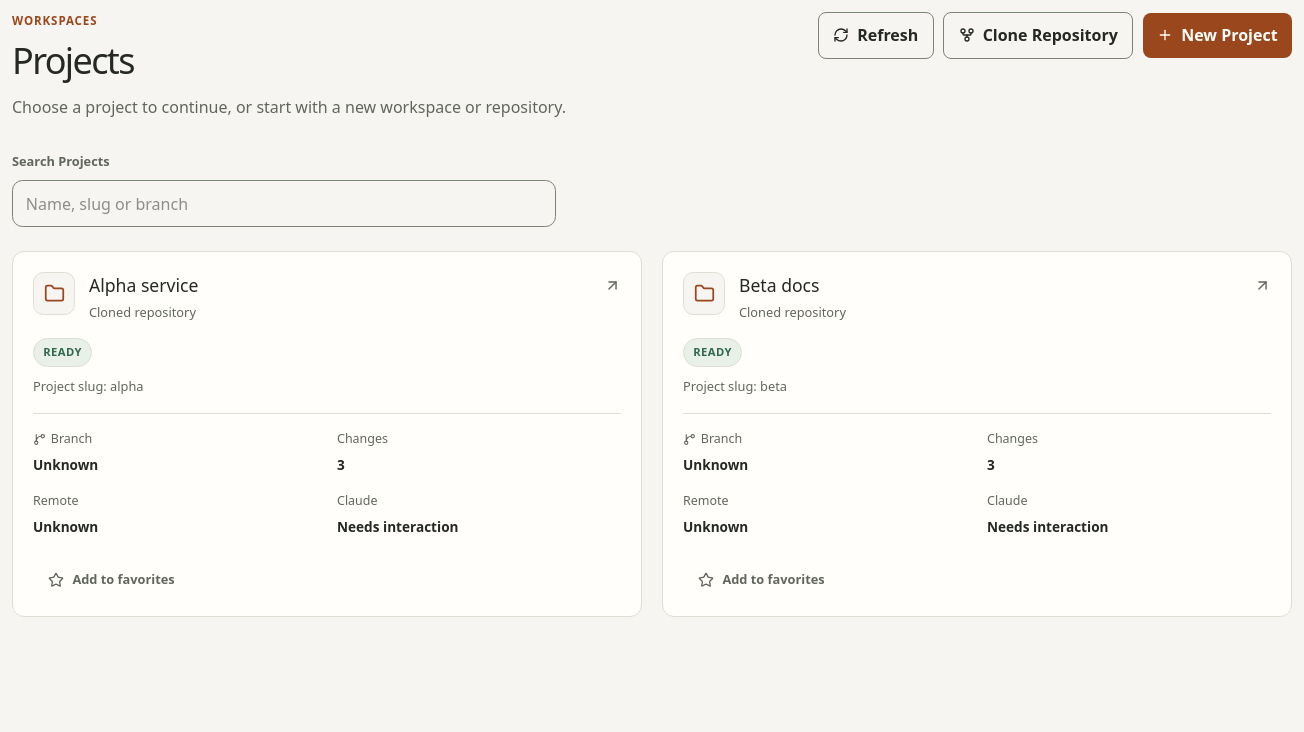
Scenario: ProjectsPage localized safety boundary › filters only loaded Project metadata and distinguishes no matches from no Projects
Type "beta" into the search field labelled "Search Projects" at (284, 204), box [12, 180, 556, 227]
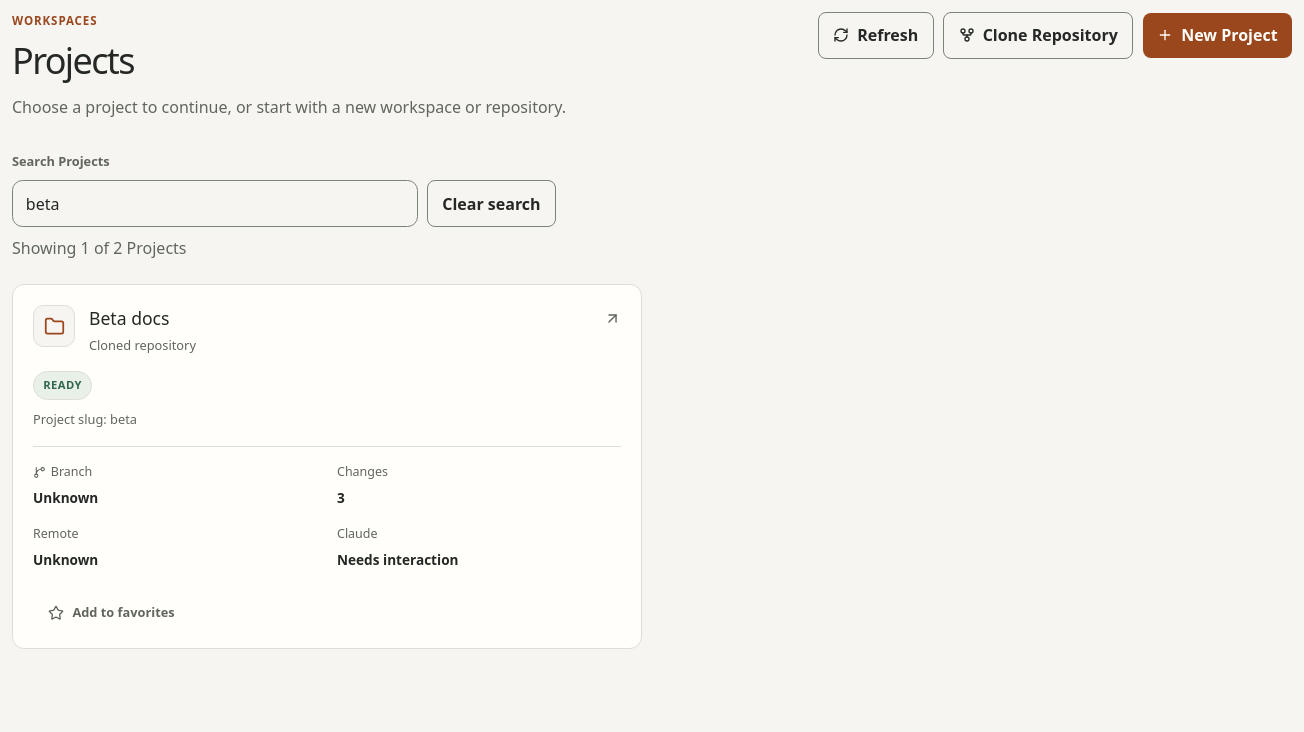
Expected: the heading "Beta docs" is shown, [89, 306, 170, 330]
Expected: the message reads "Showing 1 of 2 Projects", [12, 237, 186, 259]
Expected: the link "Alpha service" is gone
Replace the text in the search field labelled "Search Projects" with "missing" at (215, 204), box [12, 180, 418, 227]
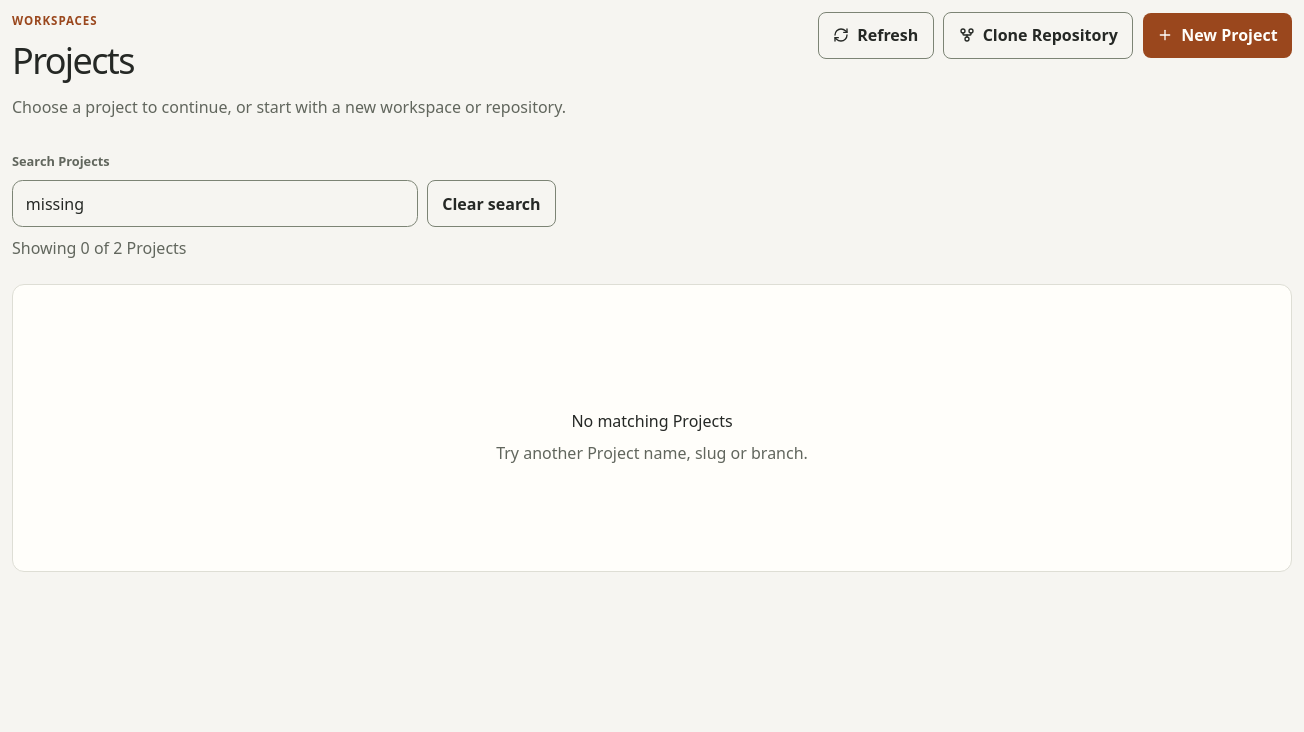
Expected: the heading "No matching Projects" is shown, [571, 409, 733, 433]
Click the button "Clear search" at (491, 204), box [427, 180, 556, 227]
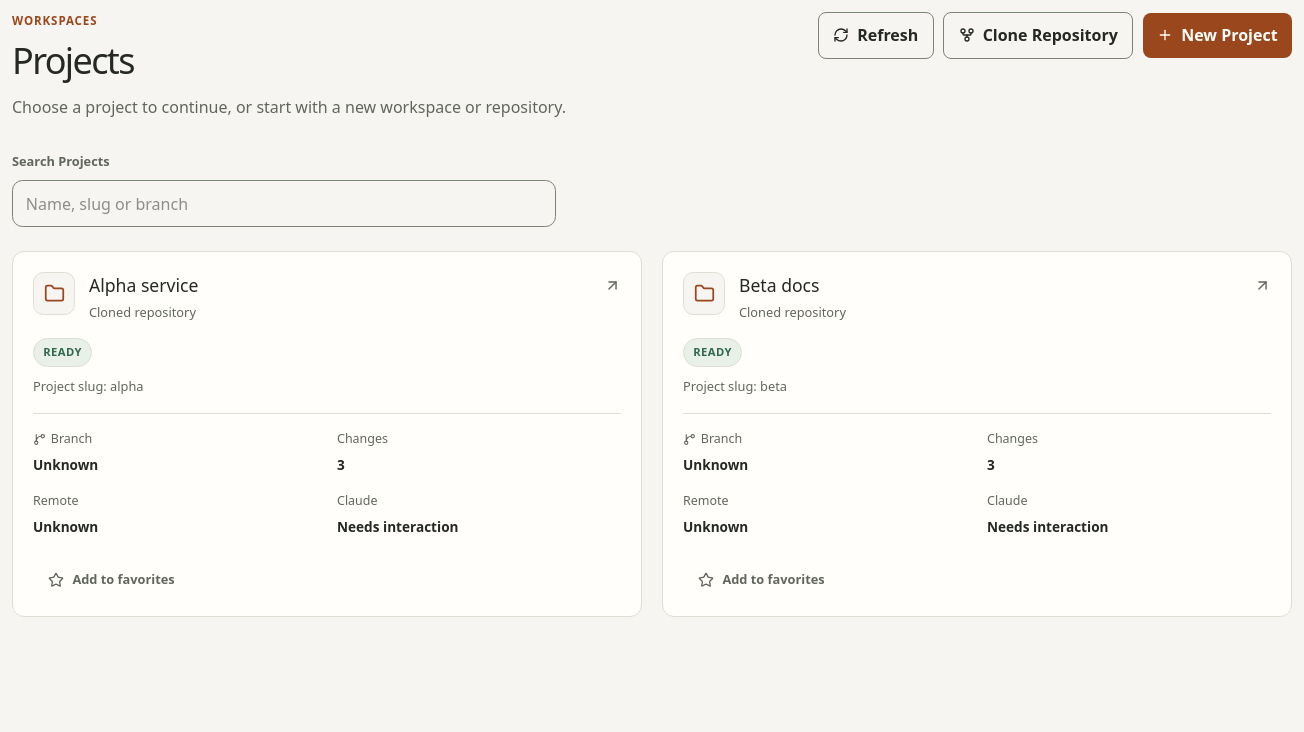
Expected: the heading "Alpha service" is shown, [89, 273, 198, 297]
Expected: the heading "Beta docs" is shown, [739, 273, 820, 297]
